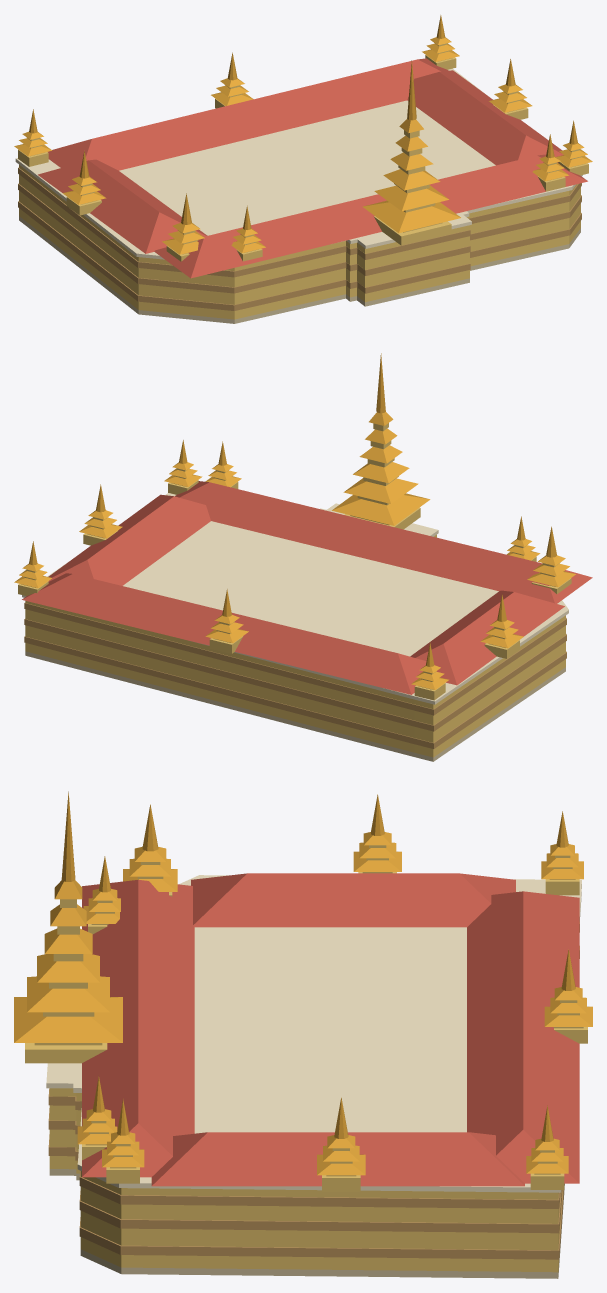
The model's file is city_hall.glb.
3 views of the same model, one above another, from view 1: azimuth 30°, elevation 25°; view 2: azimuth 150°, elevation 25°; view 3: azimuth 270°, elevation 25° (orthographic). The views are drawn at different scales.
Parts seen in each view (by area): view 1: part; view 2: part; view 3: part.
Boxes of the visible parts, bbox=[...] form: part: bbox=[14, 15, 592, 323]; part: bbox=[14, 353, 592, 761]; part: bbox=[14, 791, 592, 1278].
Size of the model in its own units: 126 by 63.25 by 95.51.
